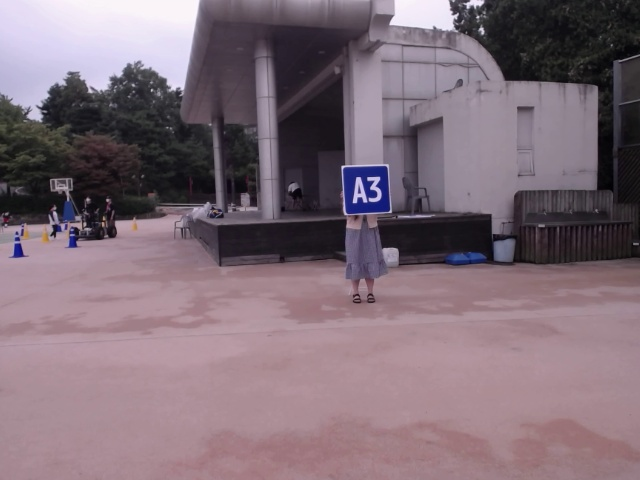delivery_a3: (341, 165, 391, 215)
